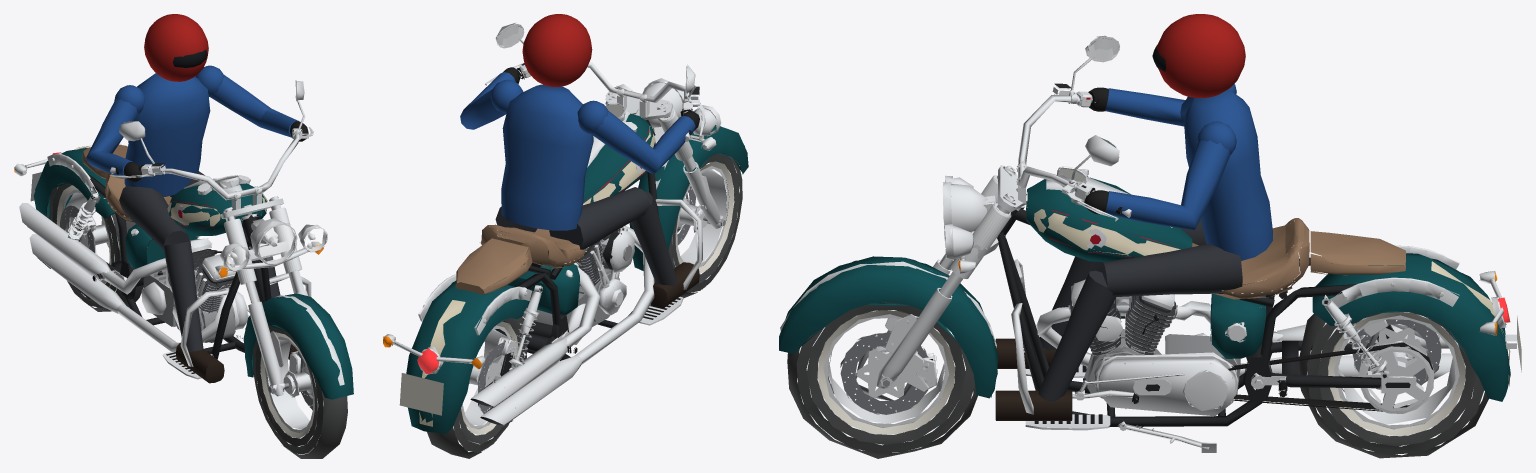
The model's file is vb_cruiser.glb.
The picture shows the model from 3 angles, left to right: view 1: azimuth 30°, elevation 25°; view 2: azimuth 150°, elevation 25°; view 3: azimuth 270°, elevation 25°; orthographic projection. The views are drawn at different scales.
Visible parts, largest first — view 1: body, fork, rider_torso, rider_legs, wheel_front, rider_head, wheel_rear; view 2: body, rider_torso, fork, rider_legs, wheel_front, wheel_rear, rider_head; view 3: body, fork, wheel_front, wheel_rear, rider_torso, rider_legs, rider_head.
Part boxes in pixels (x1,y1,x2,y2): body: [14, 143, 311, 379]; fork: [110, 80, 353, 399]; rider_torso: [86, 65, 308, 196]; rider_legs: [119, 171, 297, 383]; wheel_front: [252, 325, 347, 458]; rider_head: [144, 14, 208, 81]; wheel_rear: [49, 183, 143, 311]; body: [383, 102, 702, 433]; rider_torso: [460, 67, 699, 230]; fork: [485, 23, 748, 270]; rider_legs: [495, 187, 699, 308]; wheel_front: [654, 153, 742, 298]; wheel_rear: [427, 317, 527, 458]; rider_head: [522, 14, 592, 86]; body: [997, 166, 1521, 452]; fork: [779, 35, 1131, 398]; wheel_front: [787, 302, 977, 458]; wheel_rear: [1298, 311, 1488, 458]; rider_torso: [1084, 84, 1272, 260]; rider_legs: [995, 219, 1242, 420]; rider_head: [1152, 14, 1245, 97].
Bounding box in the file's own units: 0.9604 × 1.57 × 2.42.
